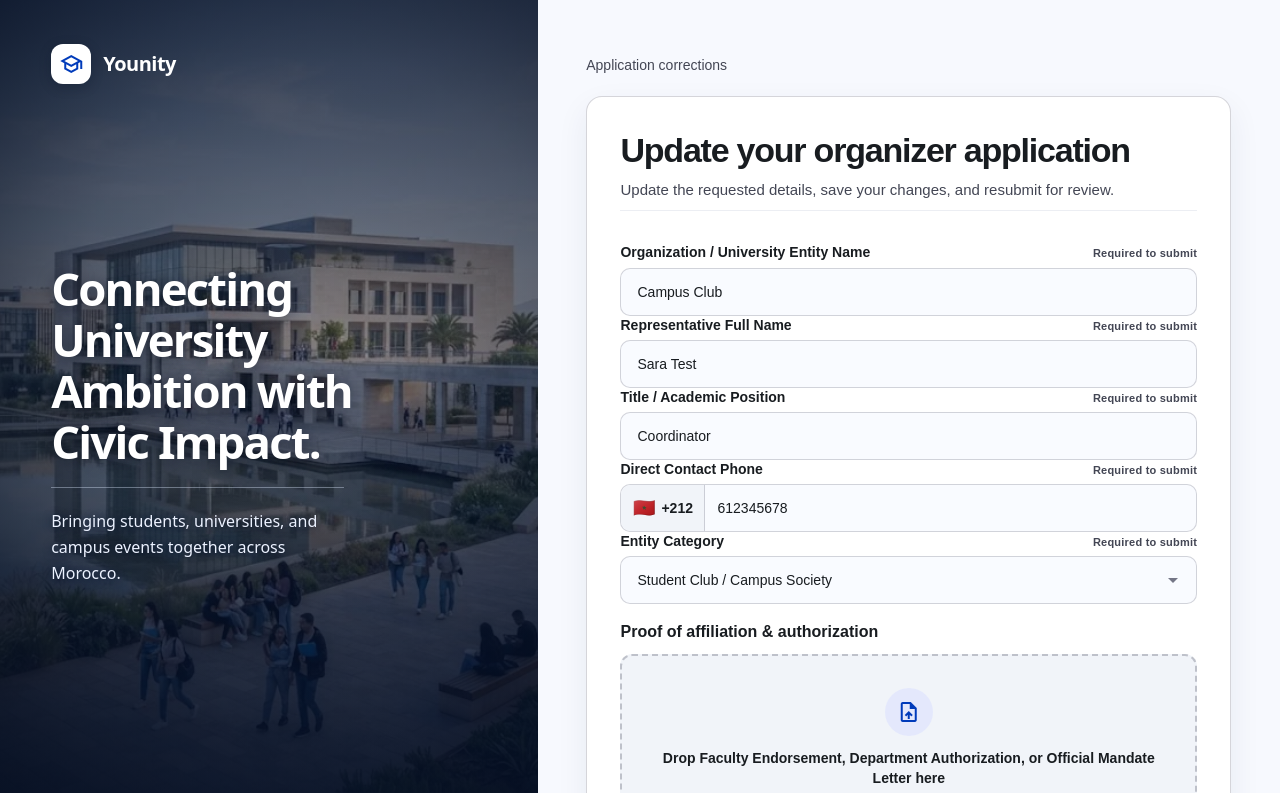
Test: organizer draft frontend integration › keeps edits after a rejected save (400) without claiming success
Replace the text in the field labelled "Organization / University Entity Name" with "Unsaved Club" at x=909, y=292, box left=620, top=268, right=1197, bottom=316
(page scrolled)
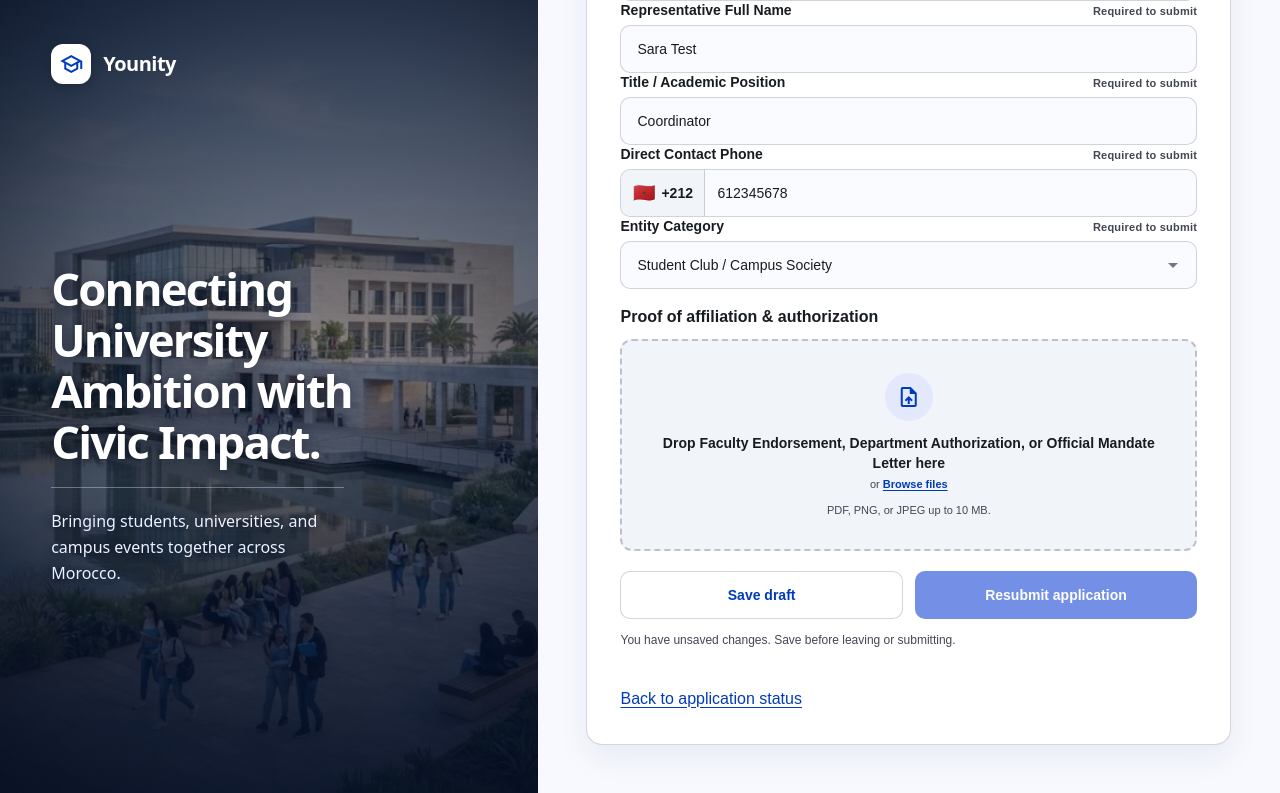
Click the button "Save draft" at x=762, y=595, box left=620, top=571, right=903, bottom=619
(page scrolled)
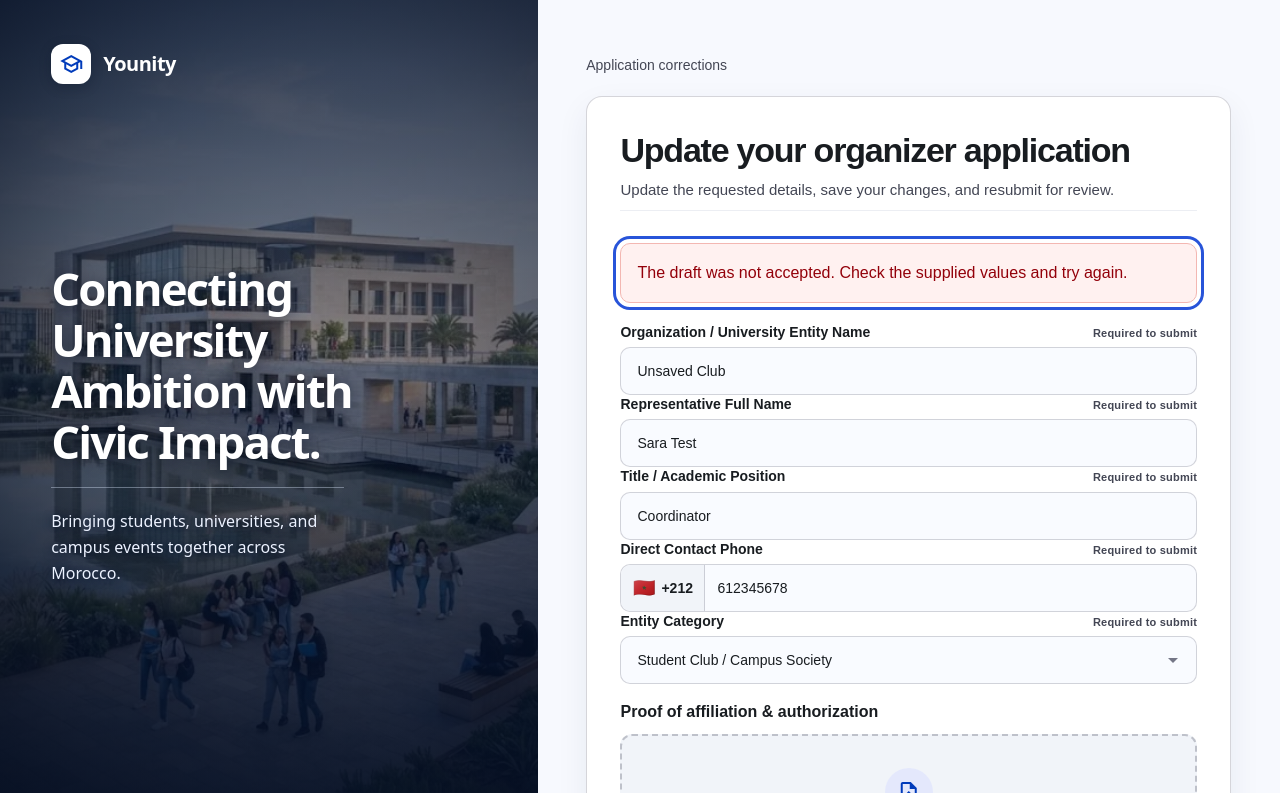
Check: the message "The draft was not accepted. Check the supplied values and try again." is shown, box left=620, top=243, right=1197, bottom=303
